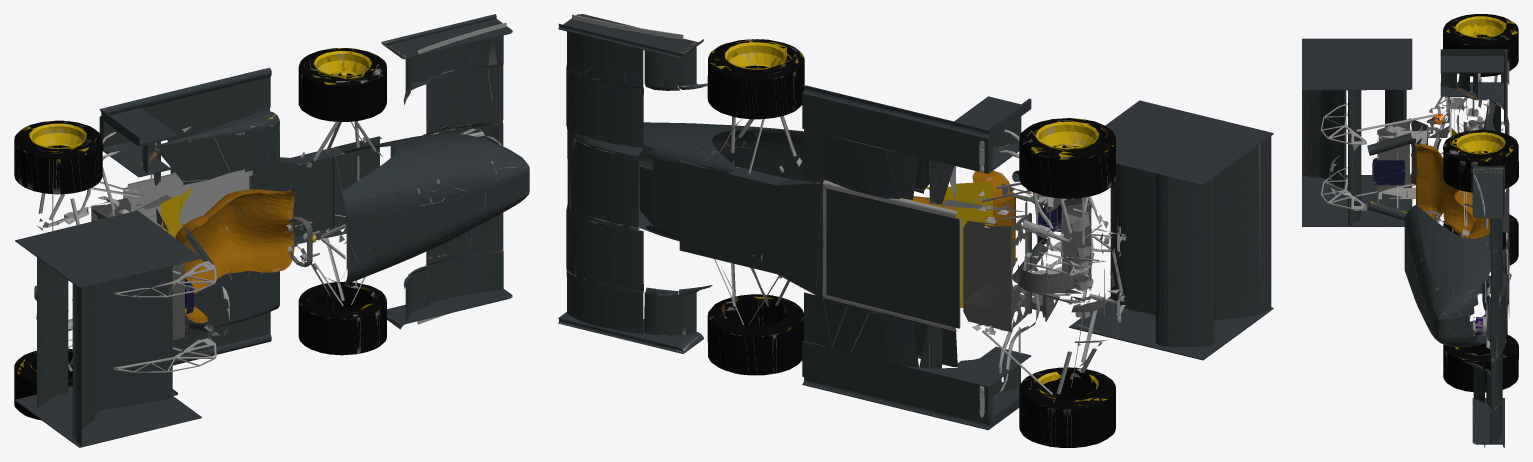
Rendered from lem_colored_compresed.dae.
3 renders of one model, left to right at view 1: azimuth 30°, elevation 25°; view 2: azimuth 150°, elevation 25°; view 3: azimuth 270°, elevation 25°, orthographic. The views are drawn at different scales.
Visible parts, largest first — view 1: node; view 2: node; view 3: node.
Part boxes in pixels (x1=…): node: x1=14, y1=14, x2=529, y2=447; node: x1=558, y1=14, x2=1273, y2=447; node: x1=1302, y1=14, x2=1518, y2=447.
Bounding box in the file's own units: 2.88 × 1.43 × 1.18.
Materials: 1 (1 with a texture image).
